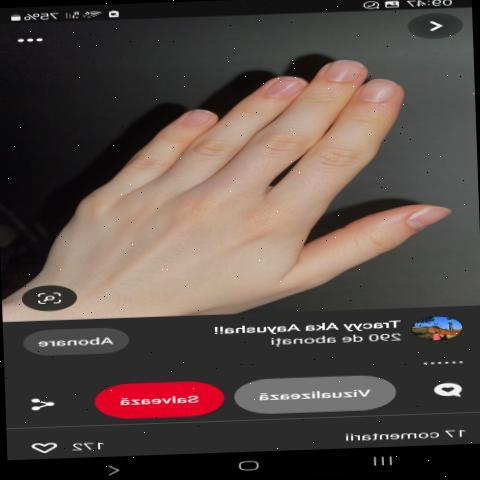Hands: (12, 15, 471, 324)
